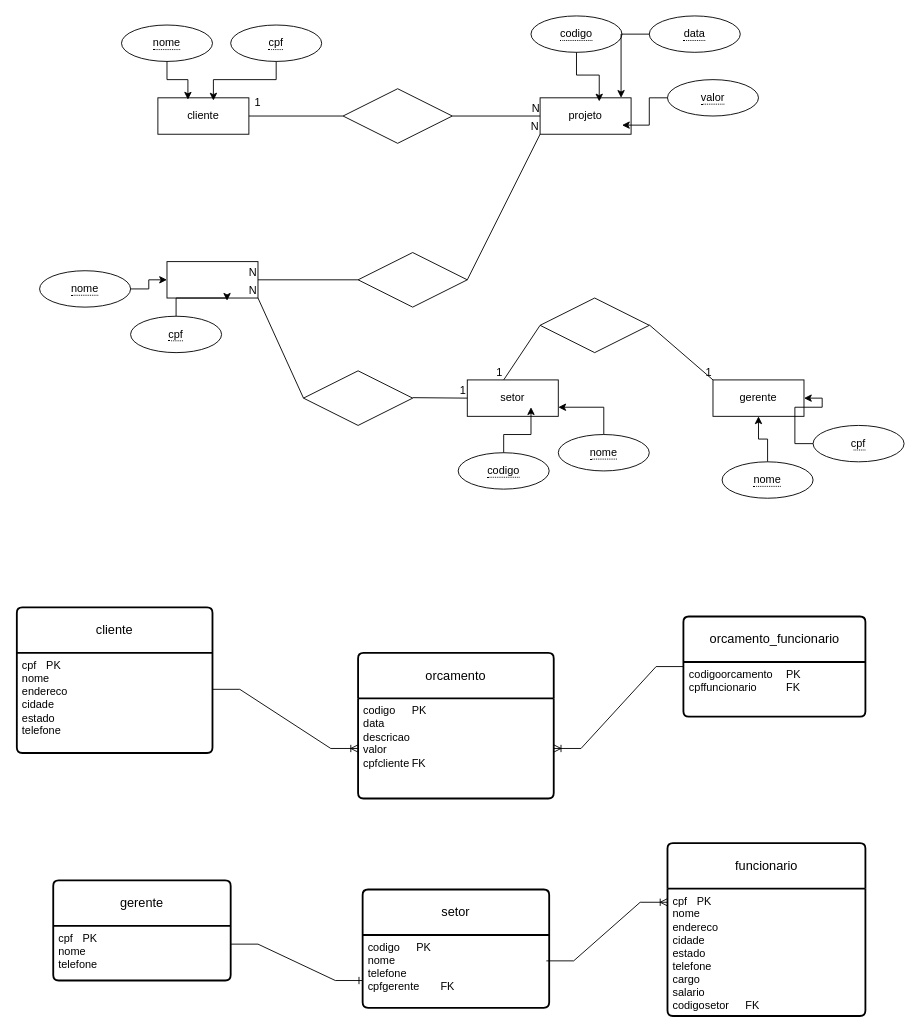
The diagram is 920 pixels wide and 1033 high, and some of its shapes have lost their labels. Each missing label, with the centre of its shape:
"analisar" belongs at [412,279].
"coordenado" belongs at [594,325].
"fncionario" belongs at [212,279].
"pertence" belongs at [358,397].
"solicitar" belongs at [397,115].
